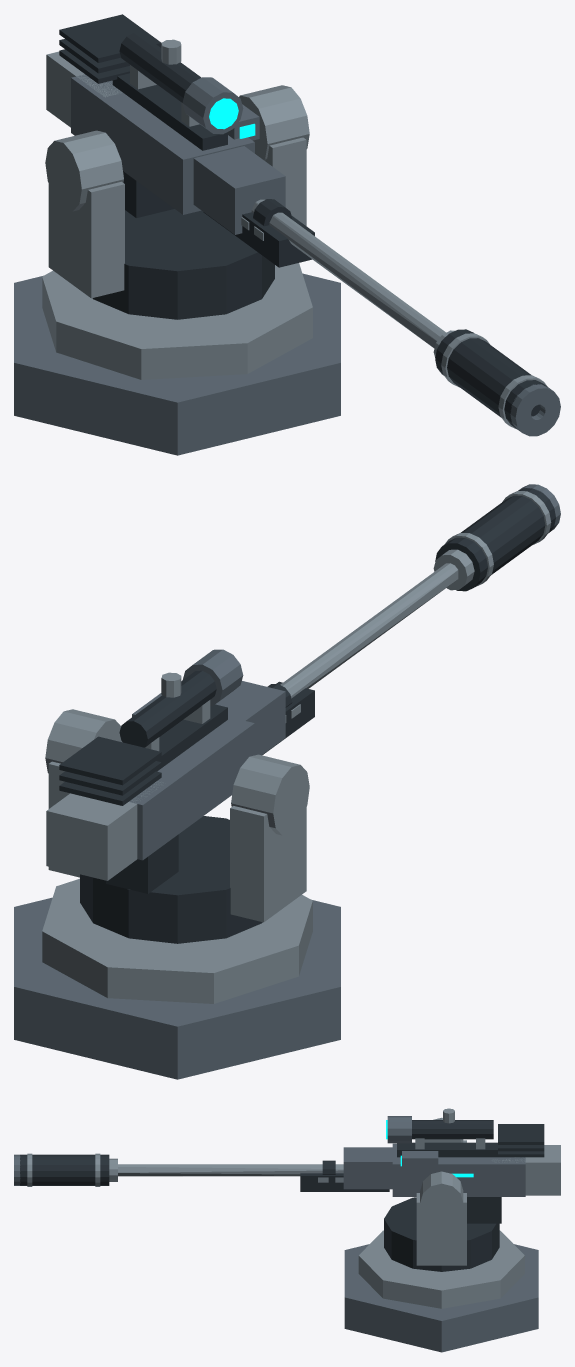
The model's file is needle_t1_d0.glb.
3 views of the same model, one above another, from view 1: azimuth 30°, elevation 25°; view 2: azimuth 150°, elevation 25°; view 3: azimuth 270°, elevation 25° (orthographic). The views are drawn at different scales.
Parts seen in each view (by area): view 1: RECOIL_ARMOR_GEOMETRY, BASE_ARMOR_GEOMETRY, YAW_ARMOR_GEOMETRY, RECOIL_SIGNAL_GEOMETRY; view 2: RECOIL_ARMOR_GEOMETRY, BASE_ARMOR_GEOMETRY, YAW_ARMOR_GEOMETRY; view 3: RECOIL_ARMOR_GEOMETRY, BASE_ARMOR_GEOMETRY, YAW_ARMOR_GEOMETRY.
Boxes of the visible parts, left/top/right/bottom form: RECOIL_ARMOR_GEOMETRY: left=45, top=14, right=560, bottom=436; BASE_ARMOR_GEOMETRY: left=14, top=263, right=340, bottom=455; YAW_ARMOR_GEOMETRY: left=48, top=137, right=306, bottom=319; RECOIL_SIGNAL_GEOMETRY: left=209, top=98, right=255, bottom=138; RECOIL_ARMOR_GEOMETRY: left=45, top=484, right=560, bottom=893; BASE_ARMOR_GEOMETRY: left=14, top=878, right=340, bottom=1079; YAW_ARMOR_GEOMETRY: left=48, top=761, right=306, bottom=943; RECOIL_ARMOR_GEOMETRY: left=14, top=1108, right=560, bottom=1223; BASE_ARMOR_GEOMETRY: left=344, top=1230, right=538, bottom=1352; YAW_ARMOR_GEOMETRY: left=384, top=1140, right=499, bottom=1271.
Size of the model in its own units: 1.55 by 1.48 by 3.79.
